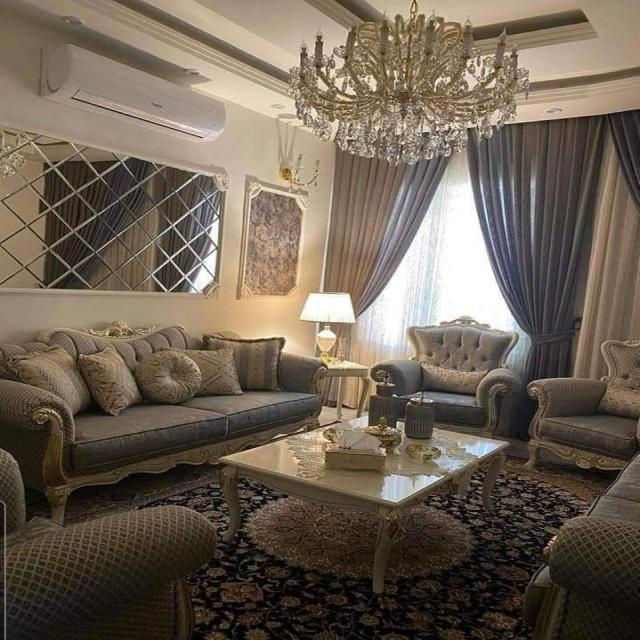couch: (0, 320, 328, 525), (0, 449, 219, 639), (523, 450, 639, 639), (370, 319, 524, 438), (523, 340, 639, 469)
